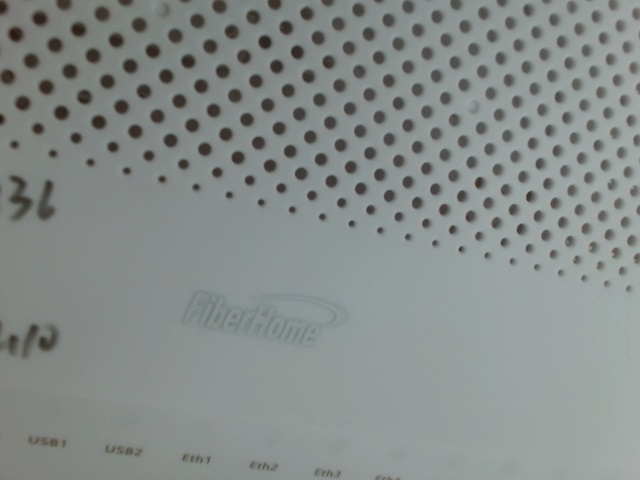AI_FiberHome: (175, 271, 358, 356)
